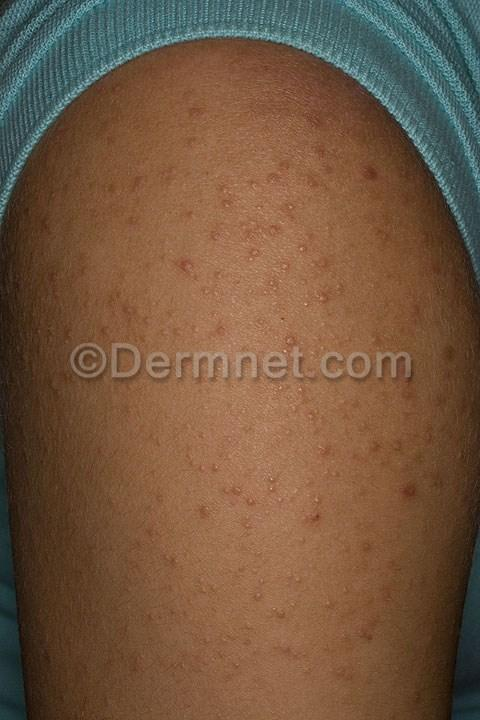edema 1: (9, 76, 479, 719)
